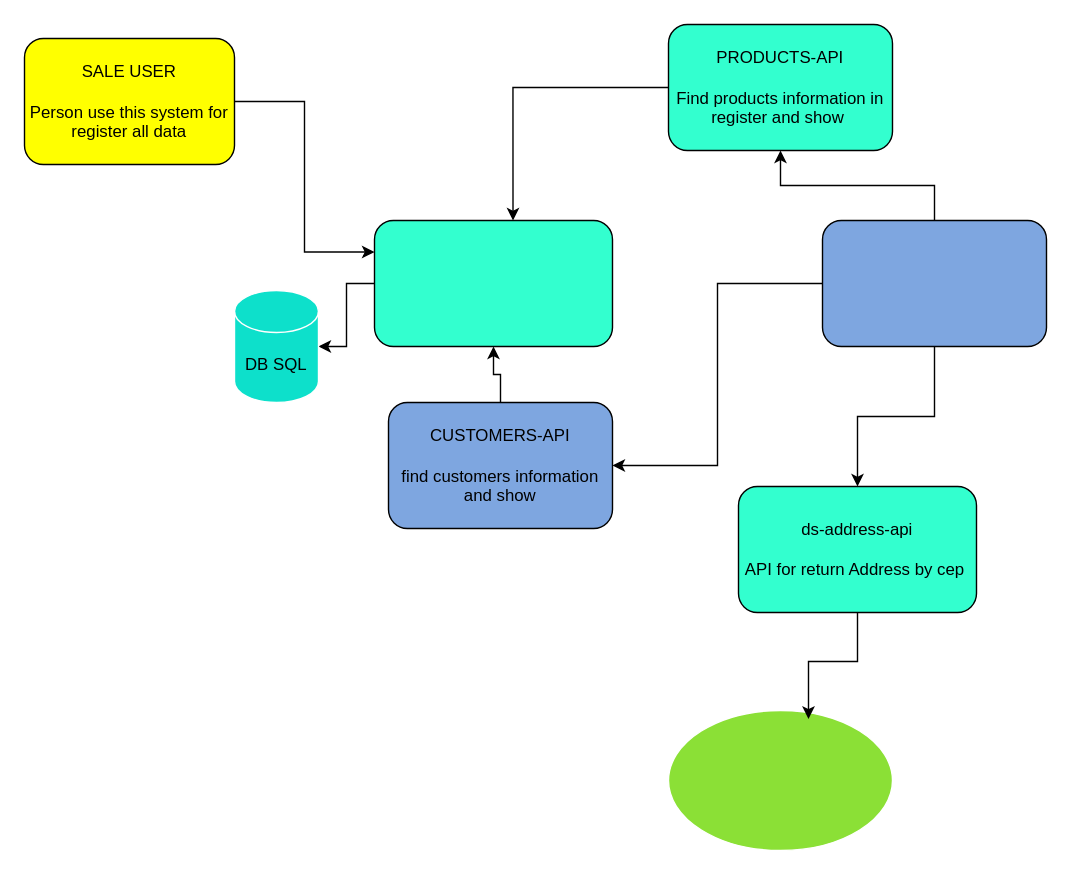
Image size: 1071x875. Some labels were removed from this diagram. The box of each missing label's shape, as (x1, y1, x2, y2) in pixels:
Registers Monilitc application , possible to users register her datas: (373, 219, 612, 346)
SALE WEB Realize sales: (821, 219, 1046, 346)
VIA CEP Find cep for customer address: (667, 709, 892, 850)
